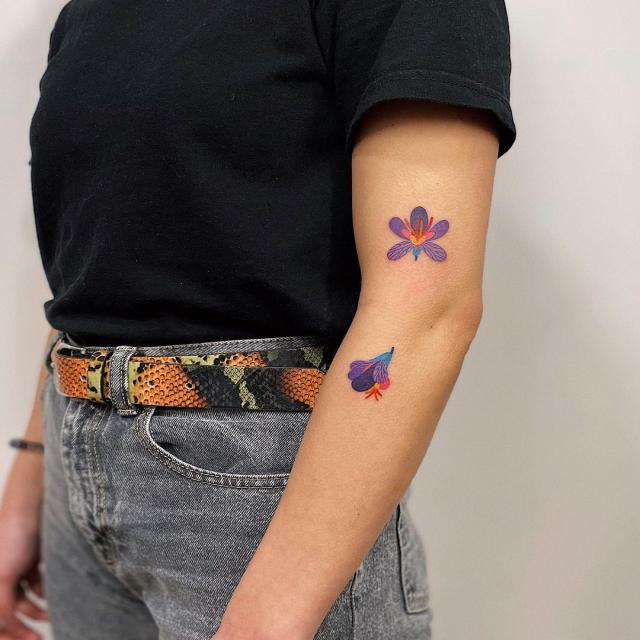Flower: (387, 204, 455, 268), (346, 345, 398, 398)
